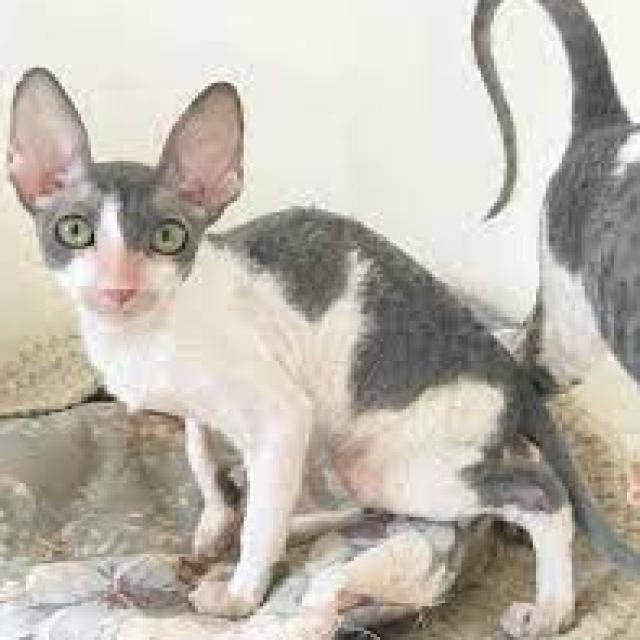Cornish Rex: (0, 58, 640, 640)
